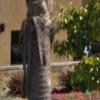Statue: (22, 1, 57, 100)
